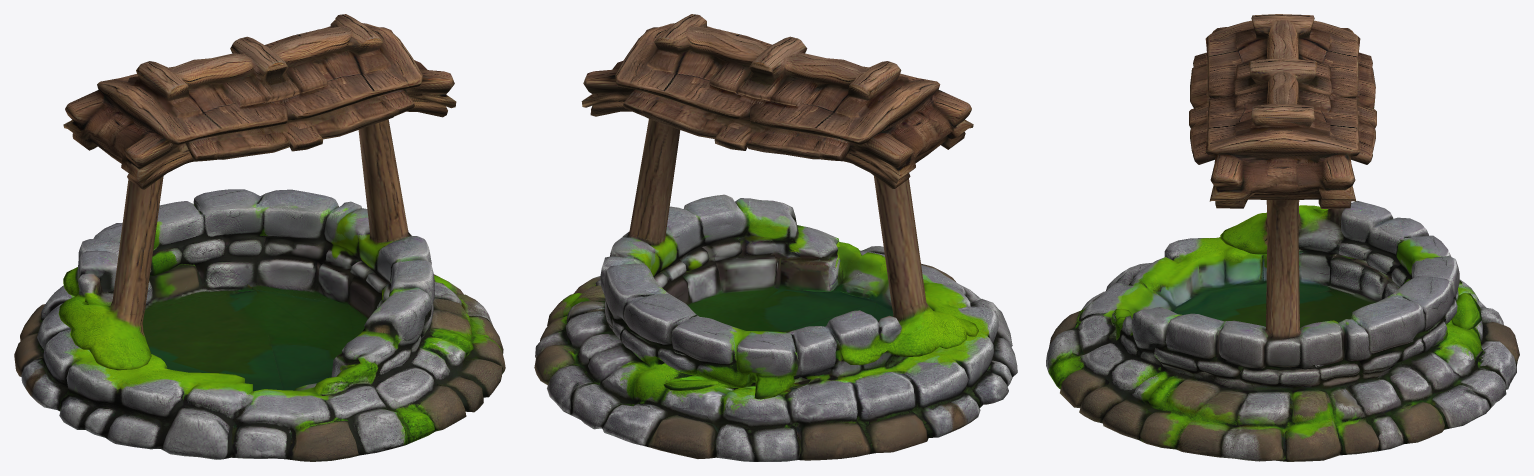
File: wellv01.glb
3 views of the same model, side by side, from view 1: azimuth 30°, elevation 25°; view 2: azimuth 150°, elevation 25°; view 3: azimuth 270°, elevation 25° (orthographic). The views are drawn at different scales.
Parts seen in each view (by area): view 1: Mesh_0.003; view 2: Mesh_0.003; view 3: Mesh_0.003.
Part boxes in pixels (<box>): Mesh_0.003: <box>14,14,505,461</box>; Mesh_0.003: <box>534,14,1017,461</box>; Mesh_0.003: <box>1046,14,1519,461</box>.
Size of the model in its own units: 4.2 by 3 by 4.23.
1 material, 1 textured.
